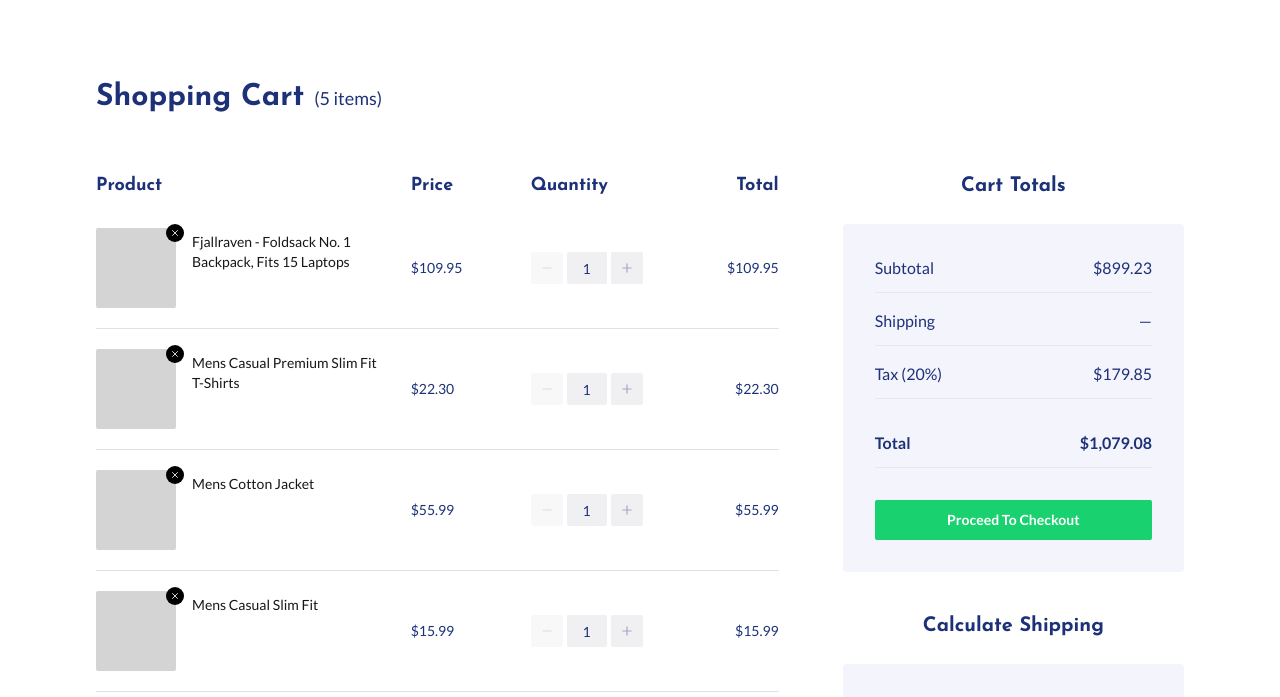
Scenario: removes a line and updates the totals
This screenshot has width=1280, height=697.
Click the button named "Remove Mens Cotton Jacket".
click(175, 475)  # box [166,466,184,484]
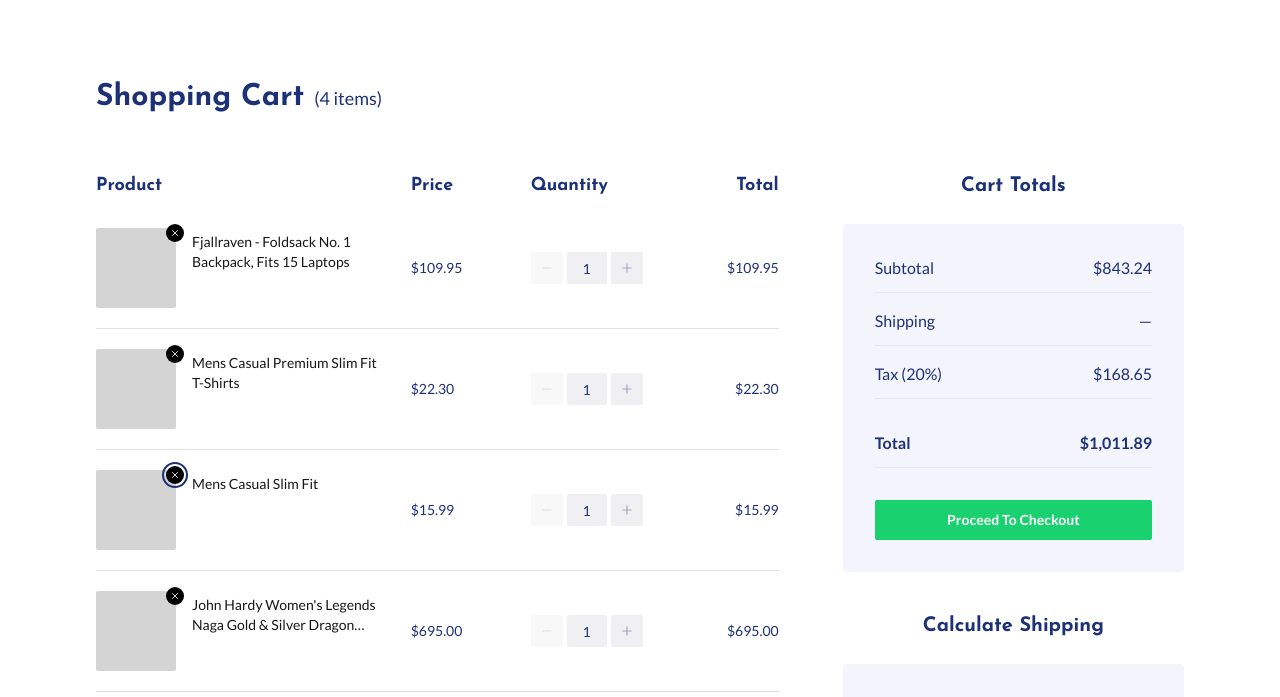
Expected: the number of "CartItemRow" components is 4, [96,208,779,329]; [96,329,779,450]; [96,450,779,571]; [96,571,779,692]
Expected: the element that starts with "Subtotal" shows "$843.24", [1093,258,1152,277]
